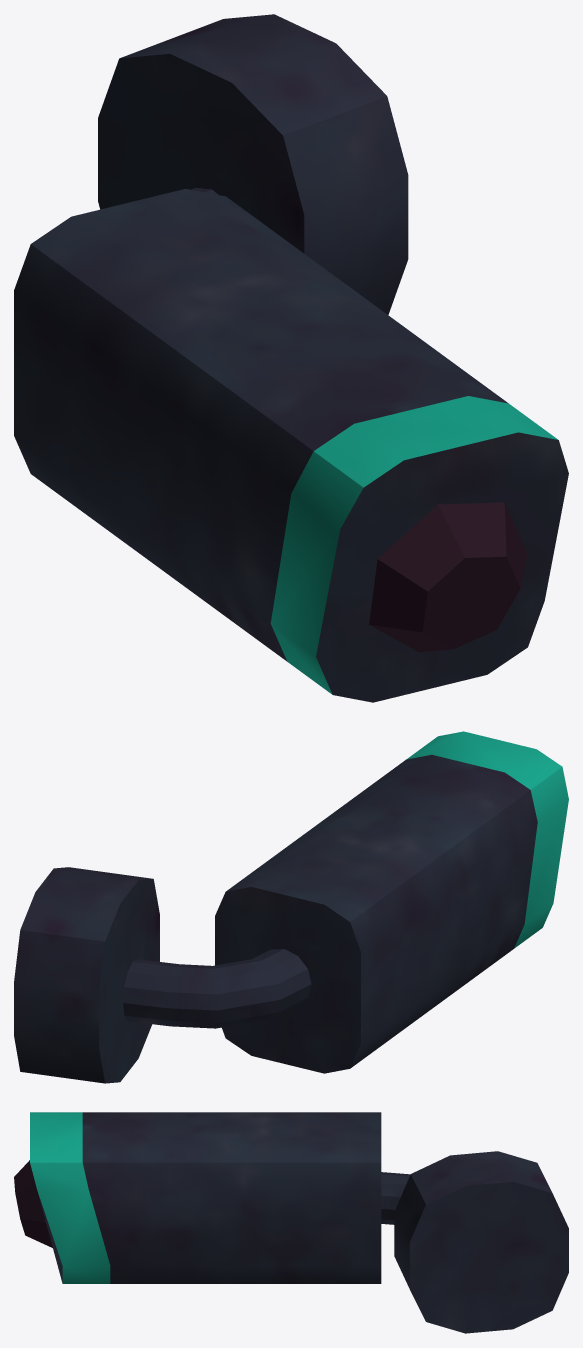
The model's file is CCTV_Camera.fbx.
The picture shows the model from 3 angles, top to bottom: view 1: azimuth 30°, elevation 25°; view 2: azimuth 150°, elevation 25°; view 3: azimuth 270°, elevation 25°; orthographic projection. The views are drawn at different scales.
Parts seen in each view (by area): view 1: Camera; view 2: Camera; view 3: Camera.
Part boxes in pixels (box(x1,y1,x2,y2)): Camera: box(14, 14, 568, 702); Camera: box(14, 731, 568, 1083); Camera: box(14, 1112, 568, 1333).
Size of the model in its own units: 25.49 by 17.11 by 55.11.
